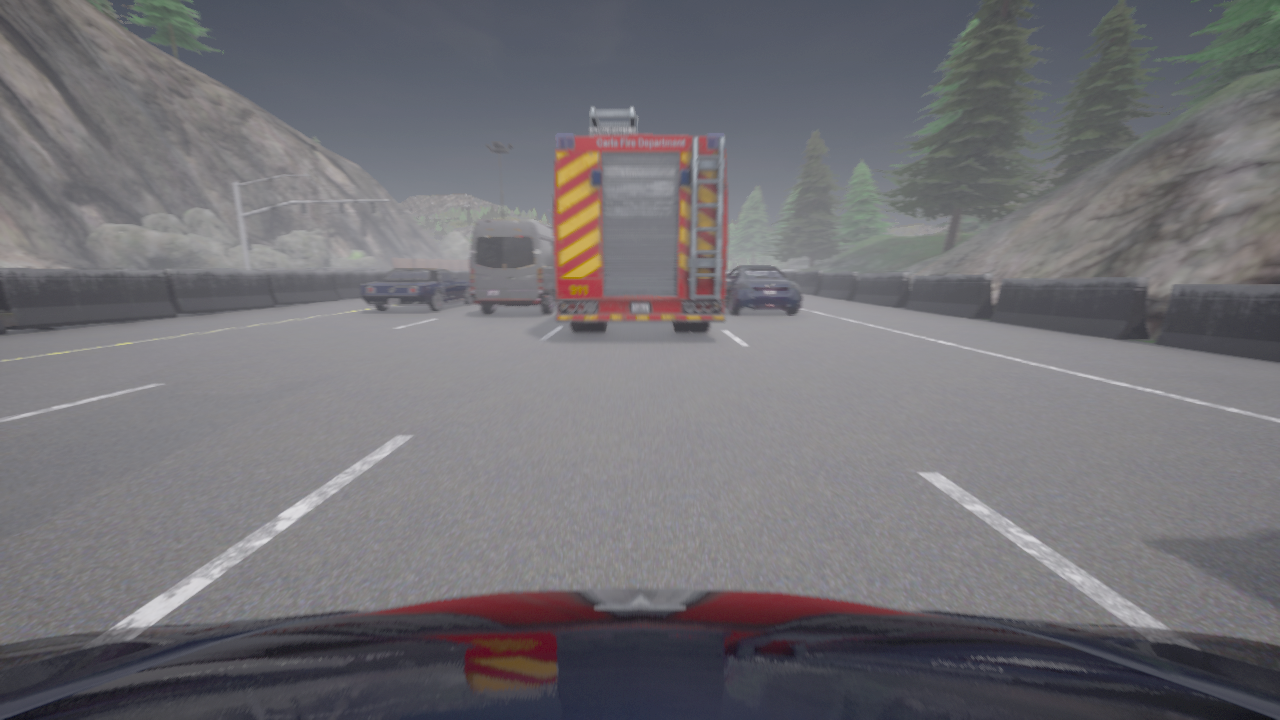cyclist: (0, 588, 1279, 719), (553, 107, 727, 332), (470, 219, 555, 313), (360, 268, 472, 311), (725, 266, 801, 313)
